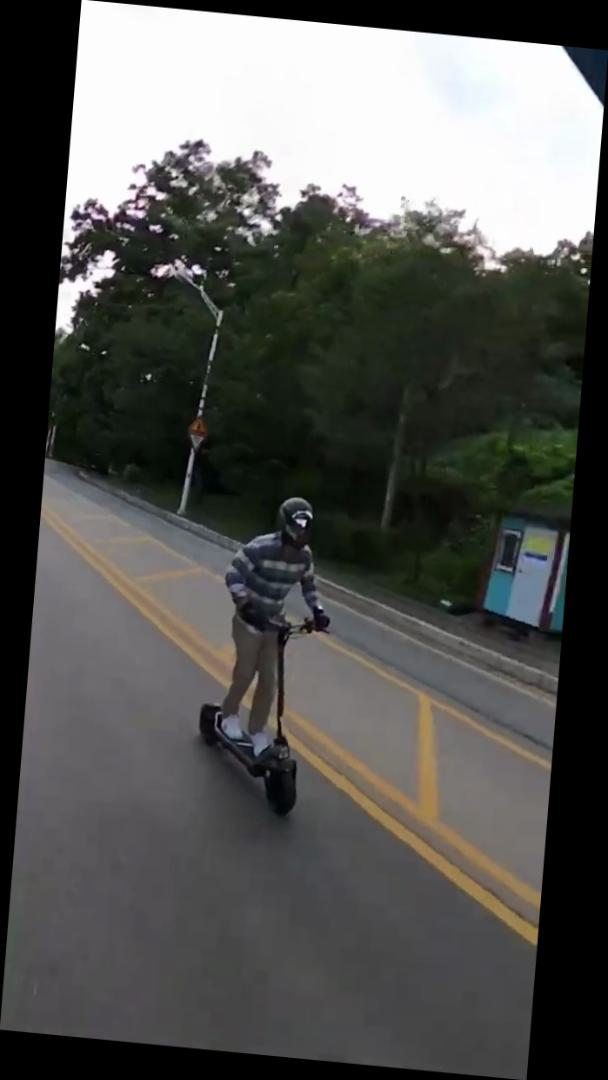helmet: (189, 482, 343, 822)
